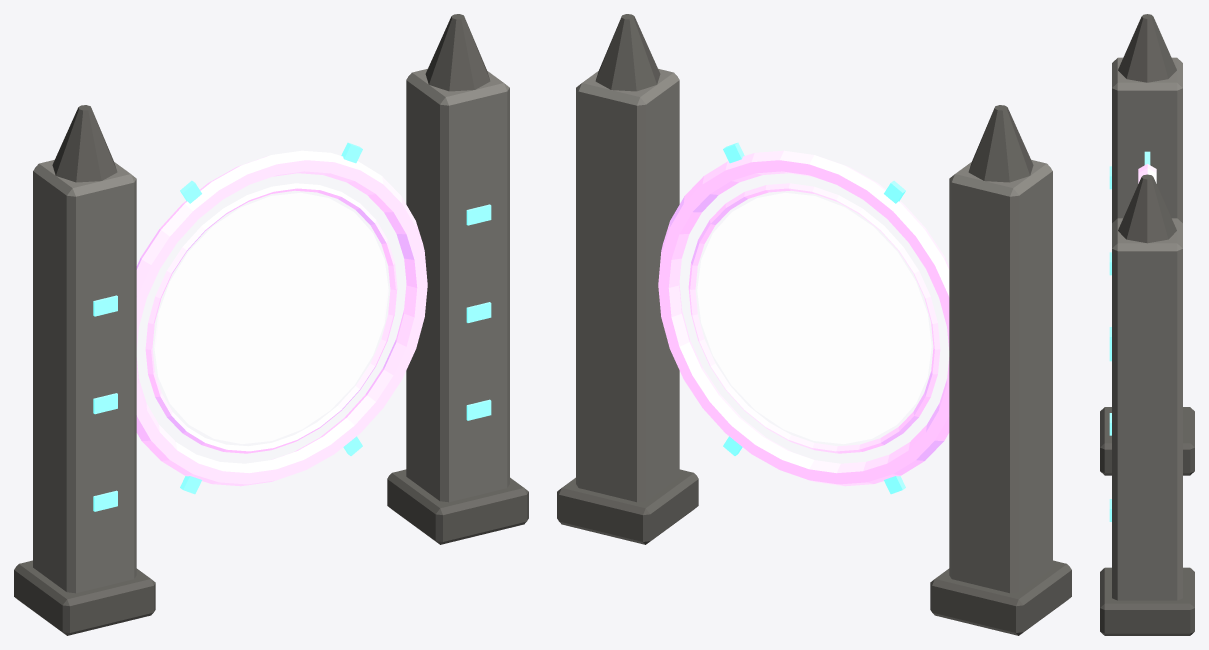
The model's file is for_portal_v01.glb.
3 renders of one model, left to right at view 1: azimuth 30°, elevation 25°; view 2: azimuth 150°, elevation 25°; view 3: azimuth 270°, elevation 25°, orthographic. The views are drawn at different scales.
Visible parts, largest first — view 1: portal; view 2: portal; view 3: portal.
Boxes of the visible parts, bbox=[...] form: portal: bbox=[14, 14, 528, 635]; portal: bbox=[557, 14, 1071, 635]; portal: bbox=[1100, 14, 1194, 635].
Bounding box in the file's own units: 4 × 4.1 × 0.8.
